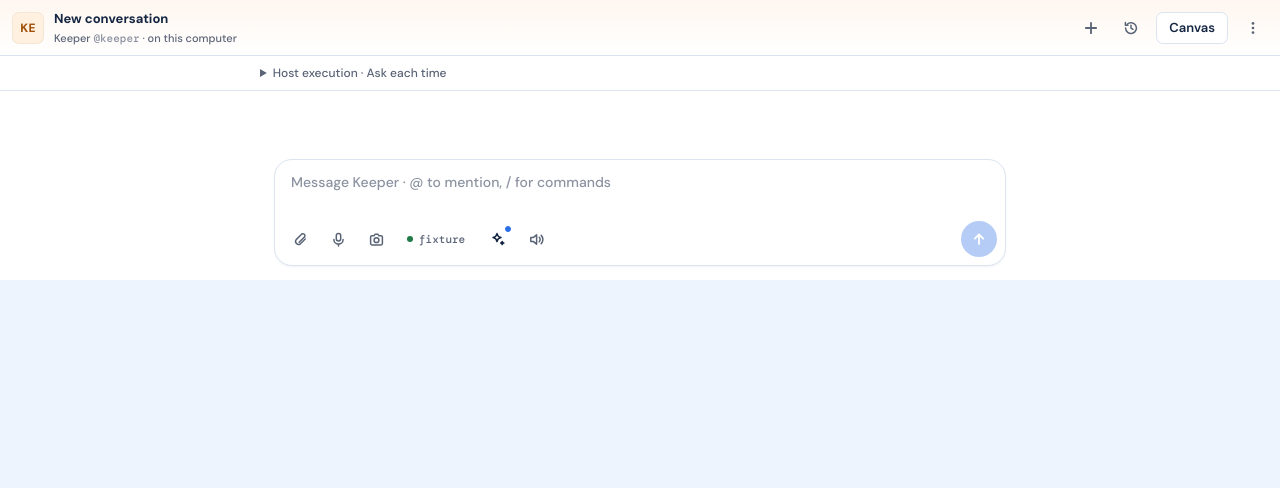
Test: a turn added while the agent was working › shows at once when sent and is not drawn twice once the transcript has it
Note: The turn that starts the run, so the page is now watching one.
Type "what did we spend?" into the text box with placeholder "Message Keeper · @ to mention, / for commands" at [640, 190], box [275,160,1005,219]
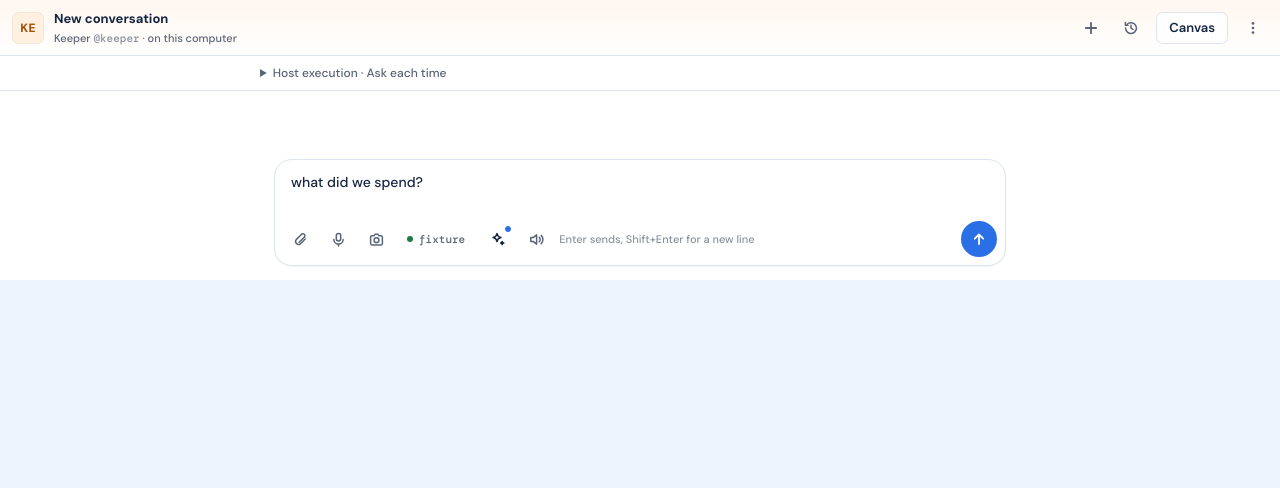
Click the button named "Send" at [979, 239], box [961,221,997,257]
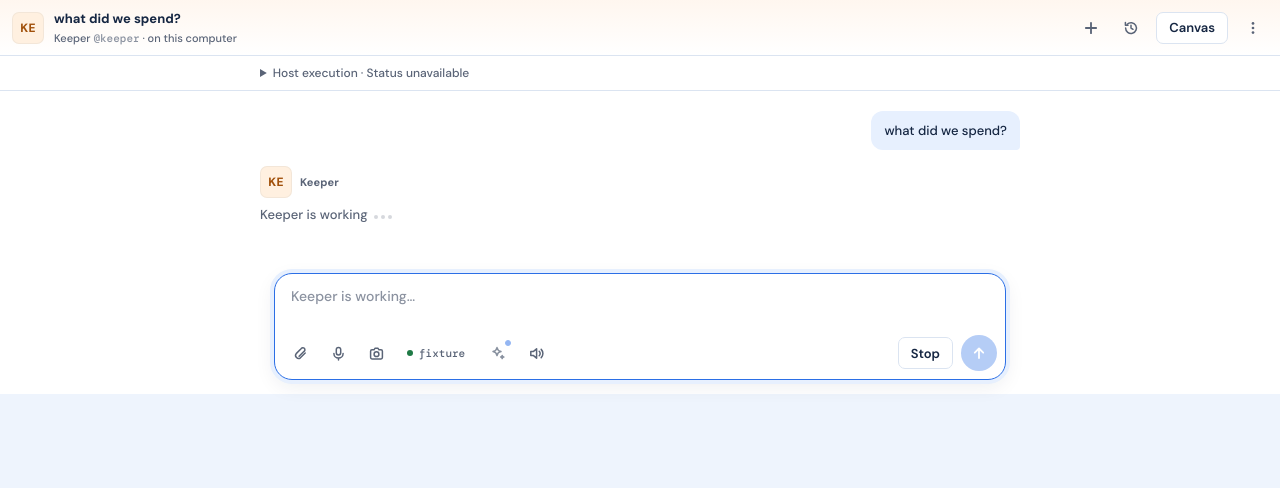
Check: the button "Stop" is shown, box [898,338,953,370]
Type "in euros, please" into the text box with placeholder "Message" at [640, 304], box [275,274,1005,334]
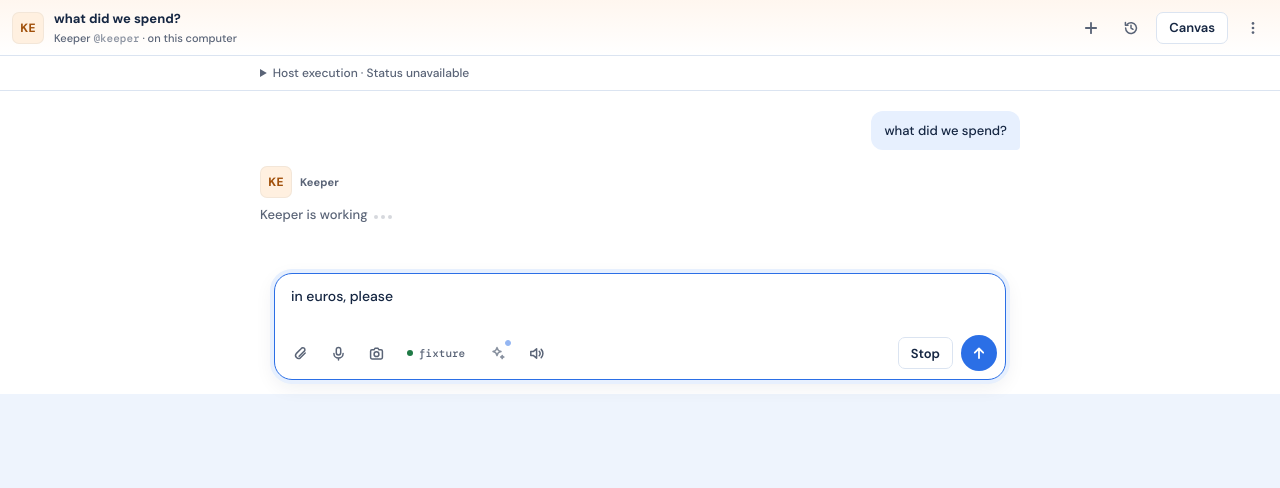
Click the button named "Send" at [979, 354], box [961,336,997,372]
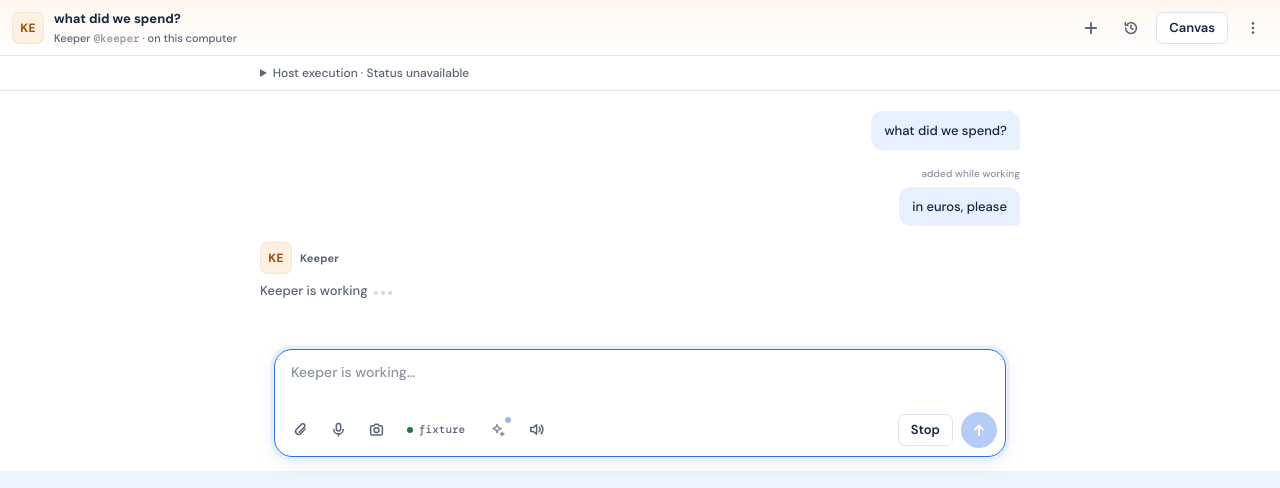
Check: the text "in euros, please" is shown once, box [899,187,1020,226]
Check: the number of elements with test id "added-while-working" is 1, box [921,166,1020,181]
